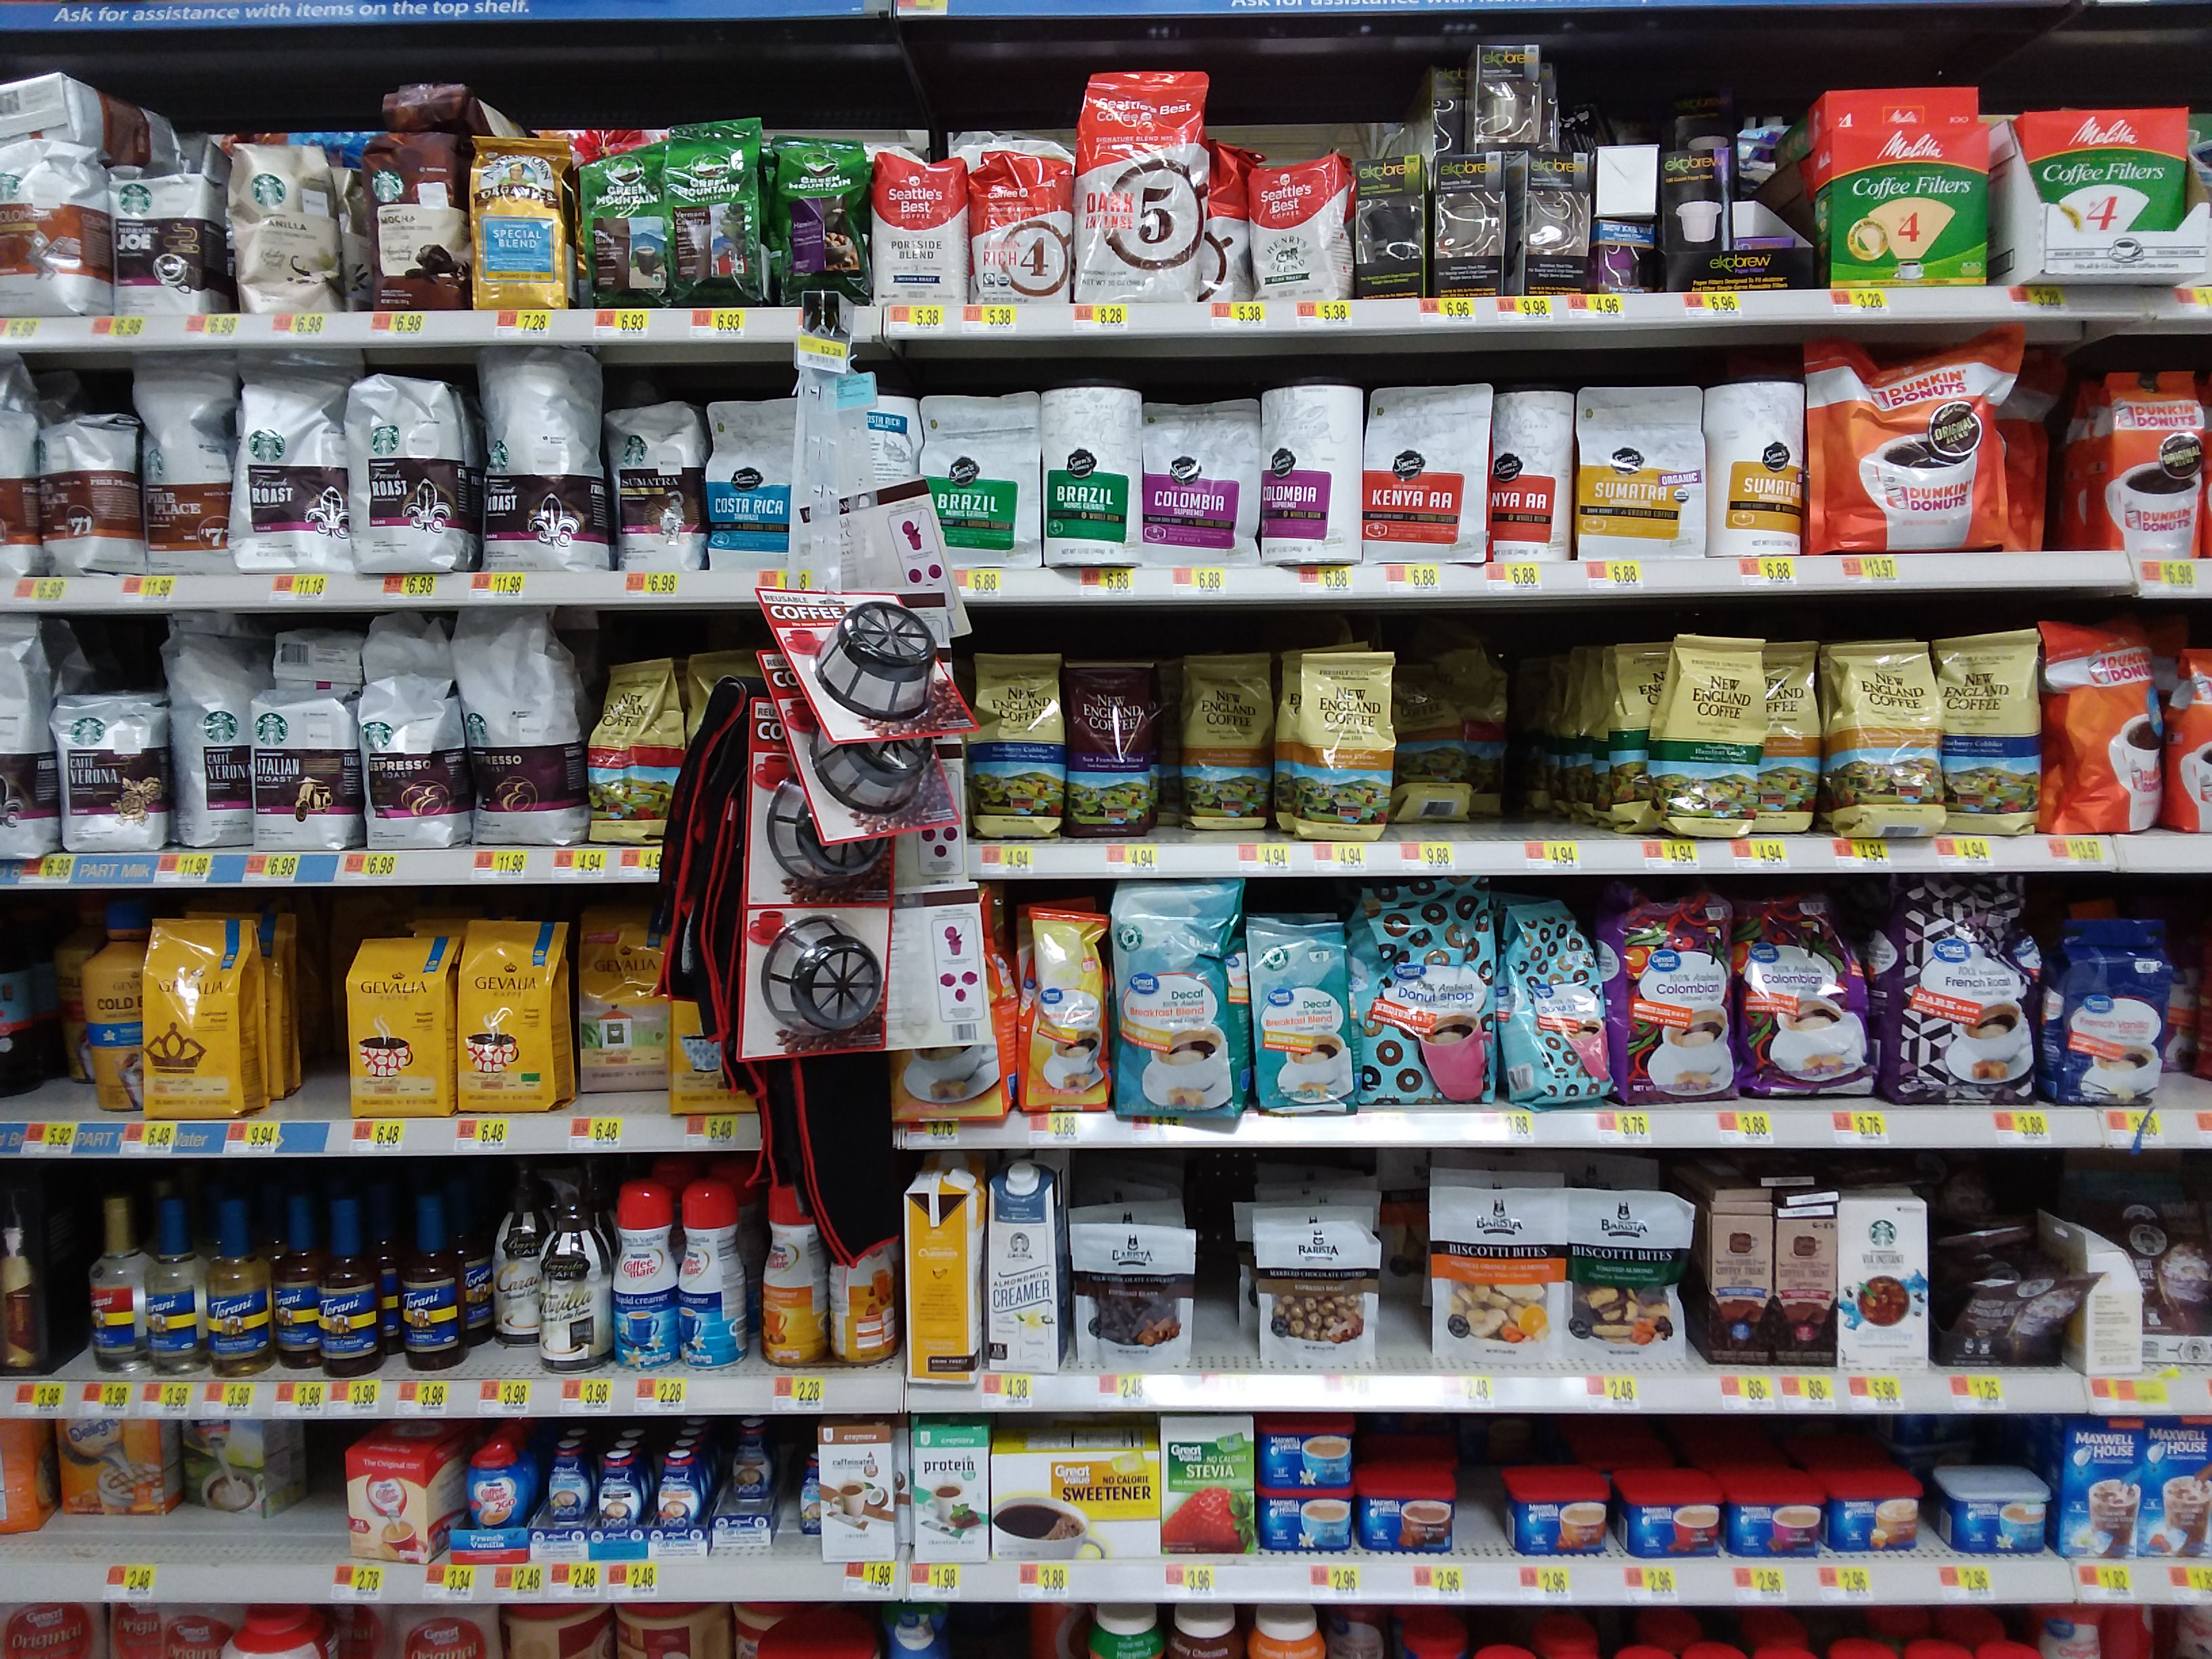Misplacement: (1397, 610, 1616, 840)
